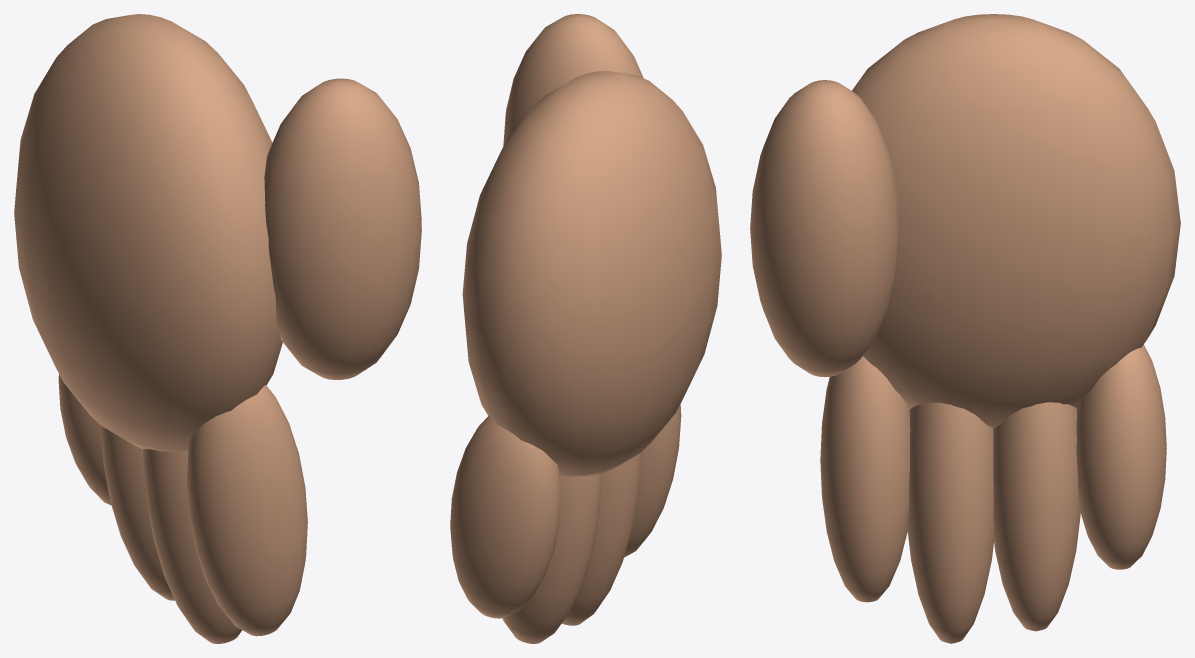
The model's file is SM_Hider_Hand.glb.
The picture shows the model from 3 angles, left to right: view 1: azimuth 30°, elevation 25°; view 2: azimuth 150°, elevation 25°; view 3: azimuth 270°, elevation 25°; orthographic projection. The views are drawn at different scales.
Visible parts, largest first — view 1: SM_Hider_Hand; view 2: SM_Hider_Hand; view 3: SM_Hider_Hand.
Boxes of the visible parts, x1,y1,x2,y2 form: SM_Hider_Hand: [14, 14, 421, 643]; SM_Hider_Hand: [450, 14, 721, 643]; SM_Hider_Hand: [750, 14, 1180, 643].
Size of the model in its own units: 0.067 by 0.1415 by 0.092.
